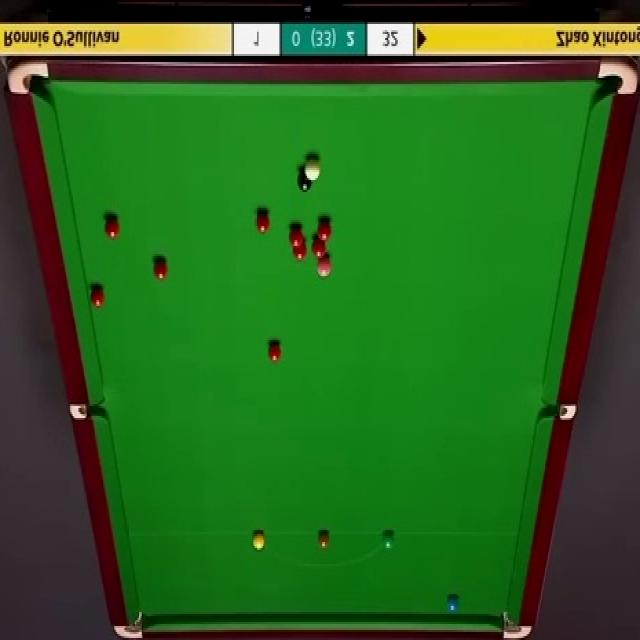black-ball: (296, 164, 314, 193)
blue-ball: (445, 593, 461, 618)
brown-ball: (317, 529, 331, 549)
green-ball: (382, 528, 396, 550)
pink-ball: (314, 255, 332, 279)
red-ball: (104, 213, 120, 241), (152, 255, 169, 280), (267, 340, 283, 364), (288, 224, 304, 247), (256, 209, 270, 235), (89, 285, 104, 309), (291, 240, 308, 261), (317, 220, 332, 242), (311, 238, 327, 258)
white-ball: (302, 153, 320, 182)
yellow-ball: (252, 530, 266, 550)
